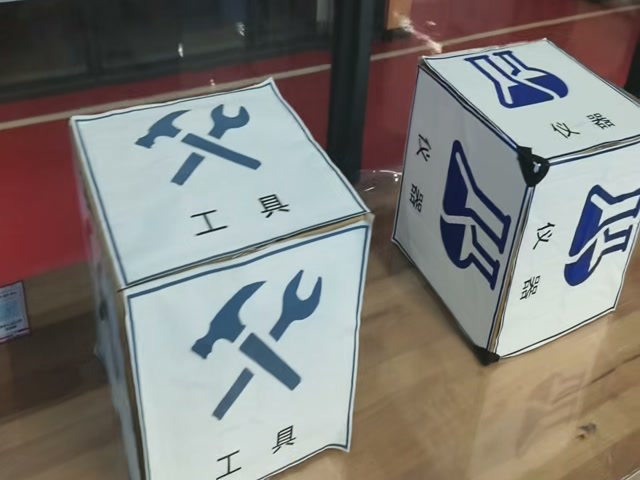Cube_ins: (421, 39, 640, 162)
Cube_tool: (81, 89, 375, 296)
